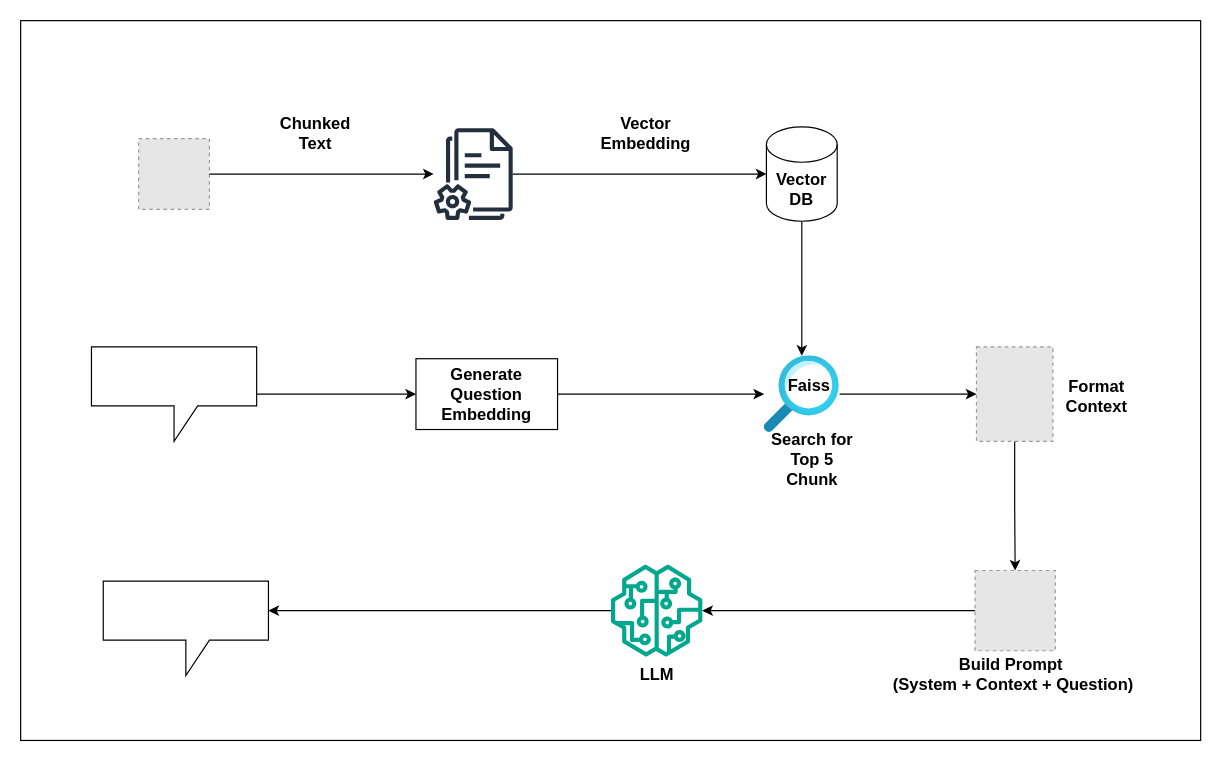
The diagram is 1221 pixels wide and 761 high, and some of its shapes have lost their labels. Grey dashed boxes stand in for pictures. Each missing label, with the box of its shape:
Question: (90, 346, 257, 441)
Result/Answer: (102, 580, 268, 676)
